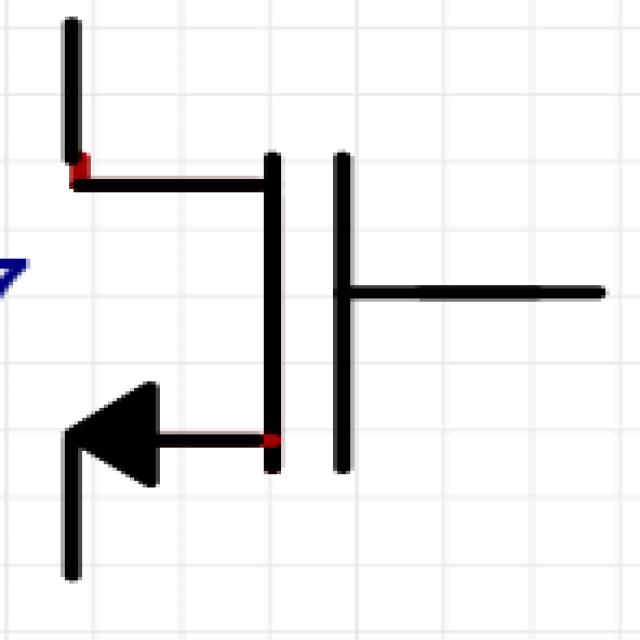nmos: (31, 17, 616, 580)
